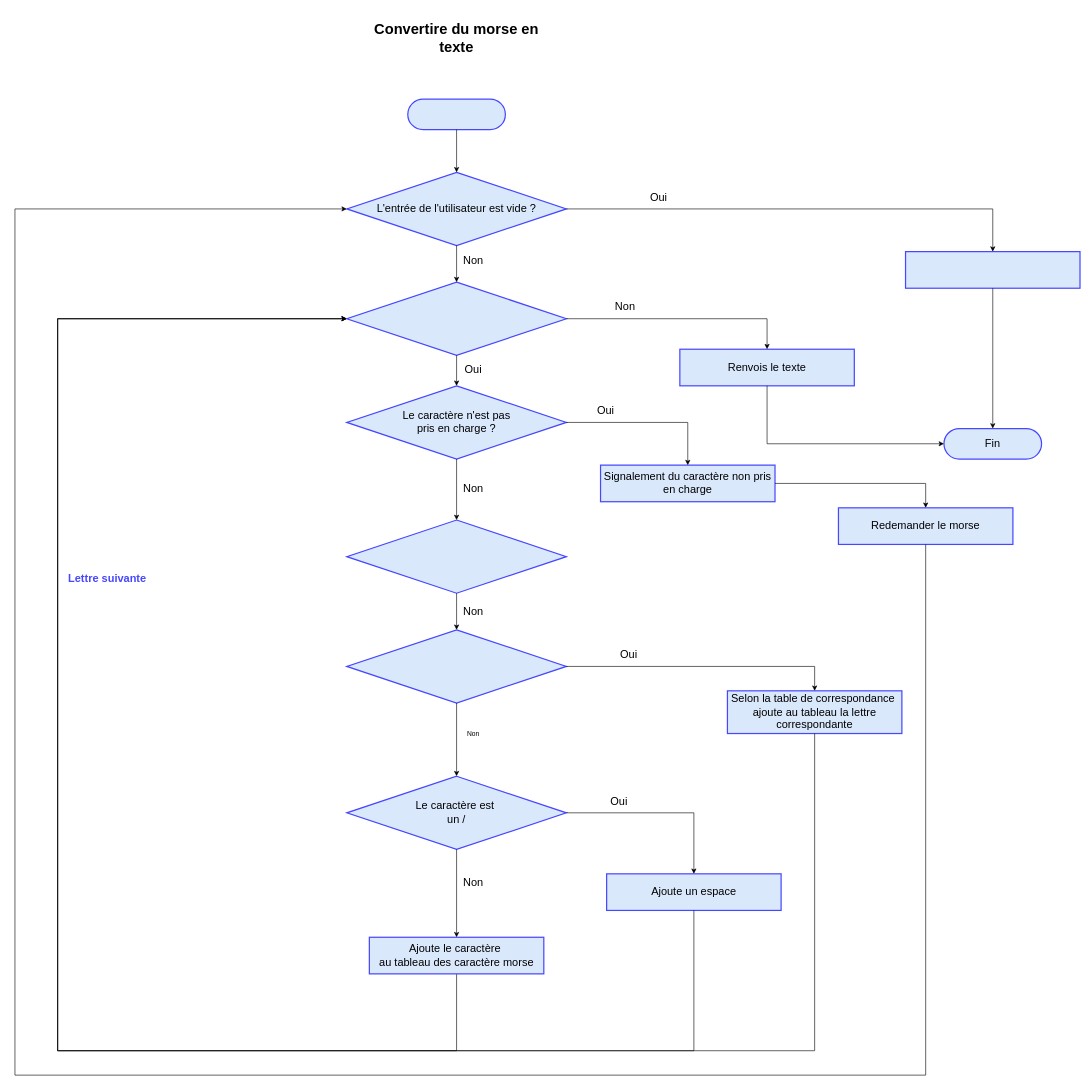
Some shapes in this 1091 by 1091 pixel diagram are drawn without their labels. The shapes that lost their labels are listed below. From the top down, each one's centre as x and y in pixels, then its label:
the point at 456,114: Début
the point at 992,270: Message d'erreur
the point at 456,318: Reste-t-il un caractère ?
the point at 456,556: Le tableau contient au moins 1 caractère
the point at 456,666: Le caractère est un espace
